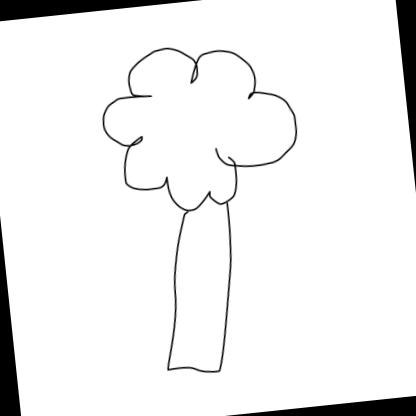crown_cloud: (94, 30, 308, 219)
trunk_reflex: (159, 211, 242, 338)
